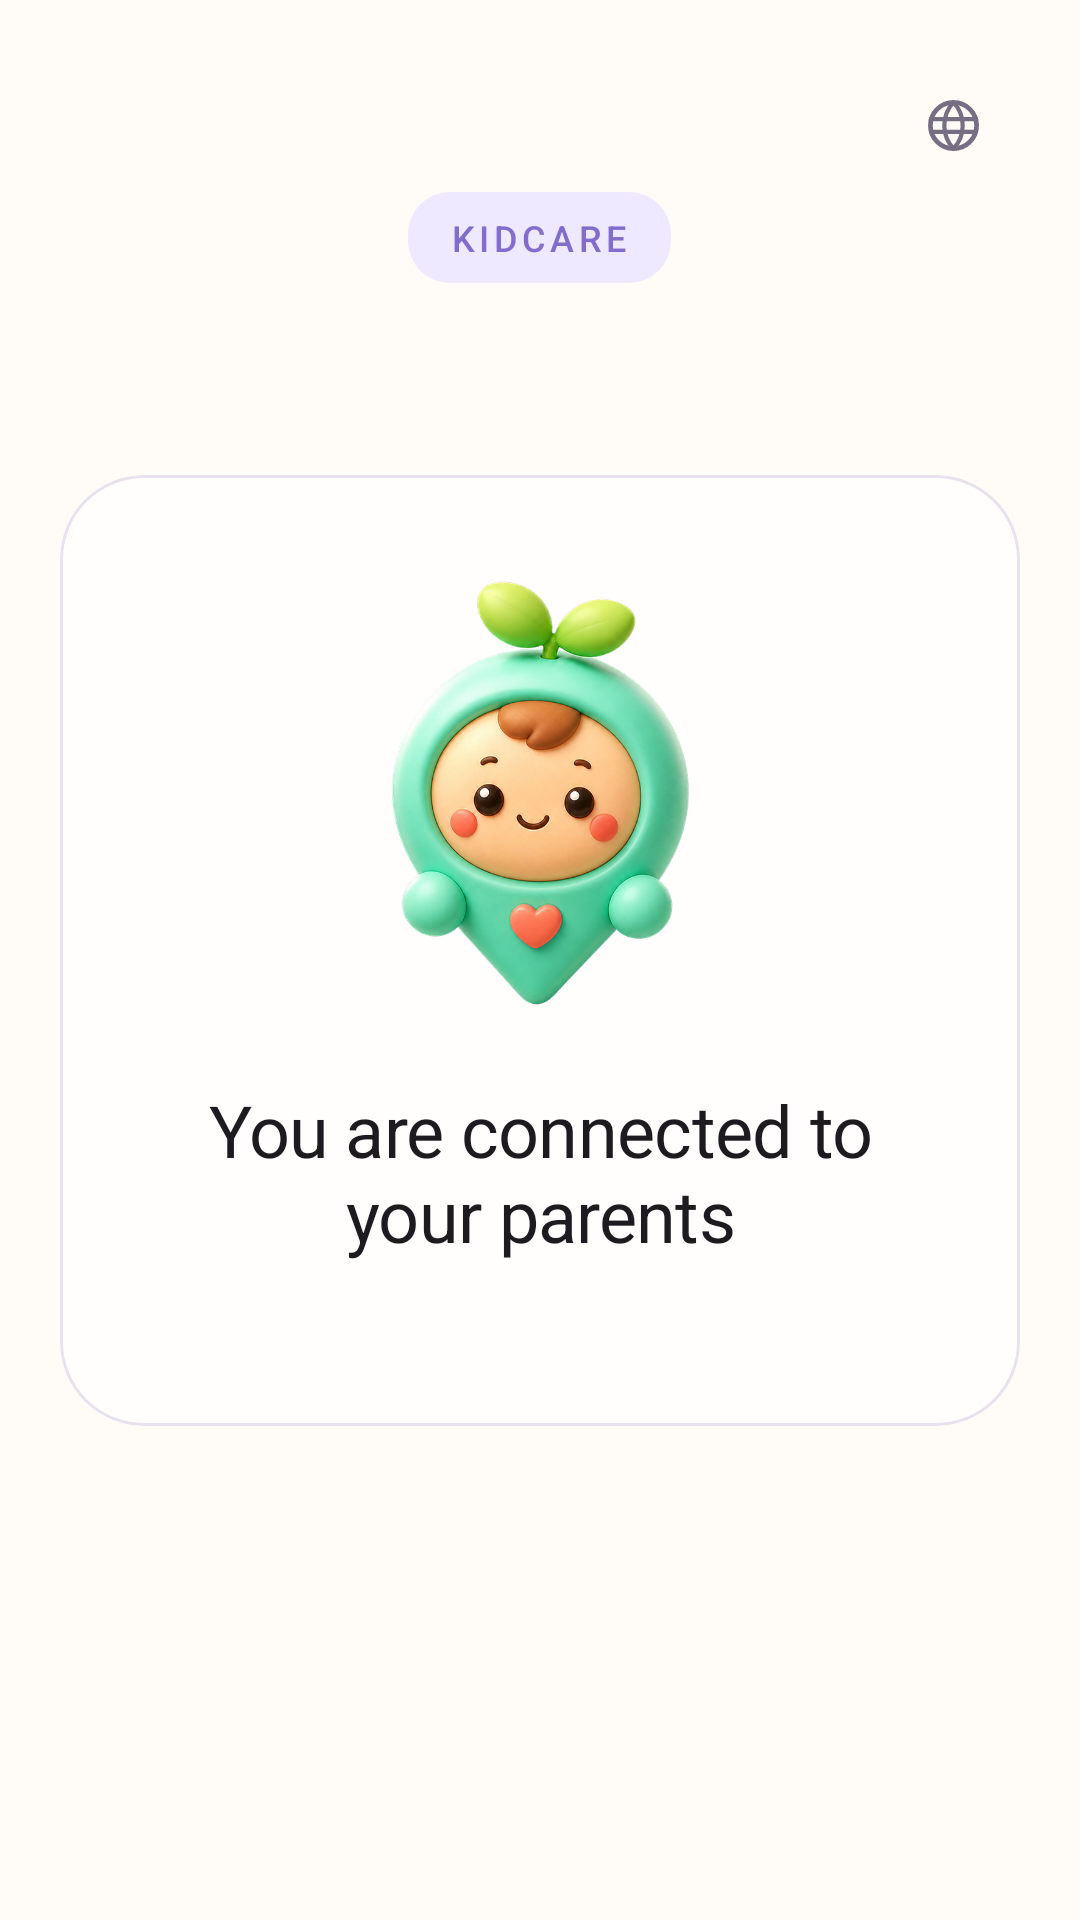

Point at icon controls on the screen. Image size 1080 x 1920, points as [x,y].
Language: [953,125]
